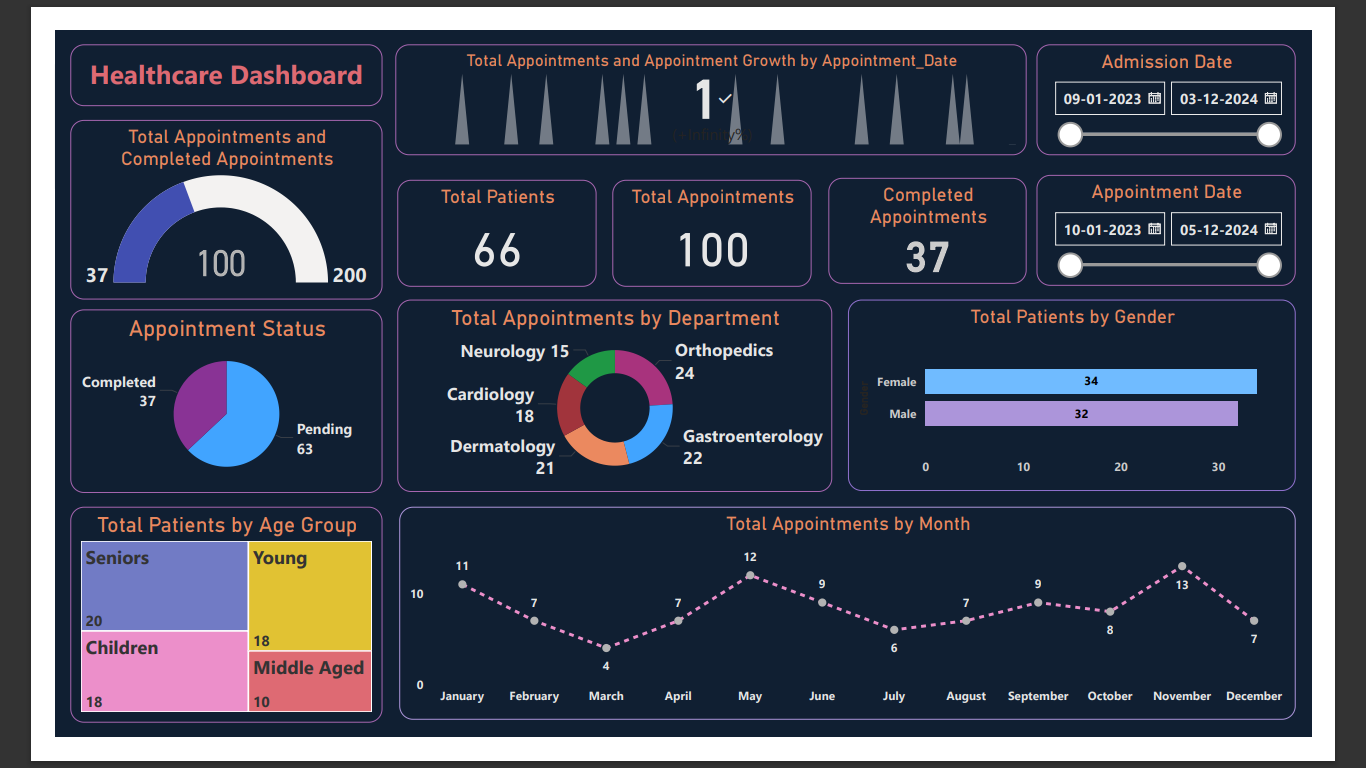

The page's visual inventory and layout, read from the dashboard file:
{"tool":"powerbi","page":{"name":"Page 5","canvas":[1280,720],"ordinal":4},"visuals":[{"type":"gauge","title":"Total Appointments and Completed Appointments","fields":{"Y":["Measure table.total appointments"],"MinValue":["Measure table.completed appointments"]},"box":[15.7,91.3,318.2,182.7],"z":0},{"type":"card","title":"Completed Appointments","fields":{"Values":["Measure table.completed_appointments"]},"box":[787.7,149.8,202.6,108.5],"z":1000},{"type":"treemap","title":"Total Patients by Age Group","fields":{"Group":["patients.Age_Group"],"Values":["Measure table.total patients"]},"box":[15.7,485.2,318.2,219.8],"z":2000},{"type":"kpi","title":"Total Appointments and Appointment Growth by Appointment_Date","fields":{"Indicator":["Measure table.total appointments"],"TrendLine":["appointments.Appointment_Date"],"Goal":["Measure table.appointment growth"]},"box":[346.8,14.3,643.6,112.7],"z":3000},{"type":"donutChart","title":"Total Appointments by Department","fields":{"Y":["Measure table.total appointments"],"Category":["appointments.Department"]},"box":[348.6,273.5,443.4,196.6],"z":4000},{"type":"pieChart","title":"Appointment Status","fields":{"Y":["CountNonNull(appointments.Appointment_ID)"],"Category":["appointments.Appointment_Status"]},"box":[15.7,284,318.2,186.9],"z":5000},{"type":"barChart","title":"Total Patients by Gender","fields":{"Category":["patients.Gender"],"Y":["Measure table.total patients"]},"box":[807.7,274,456.6,195.5],"z":6000},{"type":"lineChart","title":"Total Appointments by Month","fields":{"Y":["Measure table.total appointments"],"Category":["appointments.Appointment_Date.Variation.Date Hierarchy.Month"]},"box":[351,485.2,913.3,216.9],"z":7000},{"type":"textbox","box":[16.1,14.3,318.2,62.6],"z":8000},{"type":"card","title":"Total Appointments","fields":{"Values":["Measure table.total appointments"]},"box":[568.5,152,202,109.1],"z":9000},{"type":"card","title":"Total Patients","fields":{"Values":["Measure table.total patients"]},"box":[348.6,152,203.8,109.1],"z":10000},{"type":"slicer","title":"Admission Date","fields":{"Values":["patients.Admission_Date"]},"box":[1000.3,14.3,264,112.7],"z":11000},{"type":"slicer","title":"Appointment Date","fields":{"Values":["appointments.Appointment_Date"]},"box":[1000.3,147,264,112.7],"z":12000}]}

Visuals, with their boxes in screenshot pixels (x1, y1, x2, y2), scaled from the page's 1280x720 canvas onto the 1366x768 screenshot:
"Total Appointments and Completed Appointments" gauge: box(17, 97, 356, 292)
"Completed Appointments" card: box(841, 160, 1057, 276)
"Total Patients by Age Group" treemap: box(17, 518, 356, 752)
"Total Appointments and Appointment Growth by Appointment_Date" kpi: box(370, 15, 1057, 135)
"Total Appointments by Department" donutChart: box(372, 292, 845, 501)
"Appointment Status" pieChart: box(17, 303, 356, 502)
"Total Patients by Gender" barChart: box(862, 292, 1349, 501)
"Total Appointments by Month" lineChart: box(375, 518, 1349, 749)
textbox: box(17, 15, 357, 82)
"Total Appointments" card: box(607, 162, 822, 279)
"Total Patients" card: box(372, 162, 590, 279)
"Admission Date" slicer: box(1068, 15, 1349, 135)
"Appointment Date" slicer: box(1068, 157, 1349, 277)
